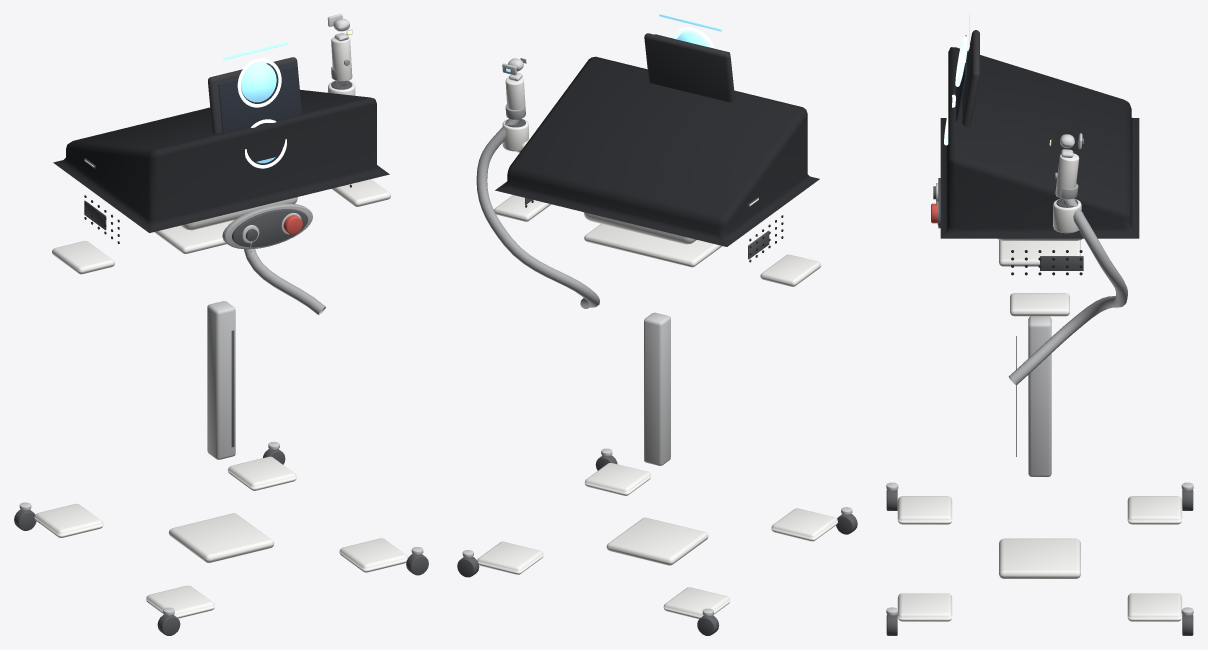
Rendered from aurum-laser-machine.glb.
3 views of the same model, side by side, from view 1: azimuth 30°, elevation 25°; view 2: azimuth 150°, elevation 25°; view 3: azimuth 270°, elevation 25° (orthographic). The views are drawn at different scales.
Parts seen in each view (by area): view 1: WedgeTop, Column, CartBaseCenter, ScreenPanel, CartWing_2, CartWing_3, CartWing_1, FrontOvalInner, TopPlateCenter, CartWing_0, TopWing_0, Hose (+6 smaller); view 2: WedgeTop, ScreenBezel, Column, CartBaseCenter, Hose, TopPlateCenter, CartWing_0, CartWing_1, CartWing_3, CartWing_2, TopWing_0, TopWing_1 (+3 smaller); view 3: WedgeTop, Column, CartBaseCenter, Hose, TopPlateCenter, CartWing_0, CartWing_2, CartWing_1, CartWing_3, TopWing_1, ScreenBezel, HpHandle (+2 smaller).
Part boxes in pixels (bbox=[...]): WedgeTop: bbox=[53, 89, 389, 232]; Column: bbox=[207, 301, 235, 459]; CartBaseCenter: bbox=[168, 513, 274, 562]; ScreenPanel: bbox=[218, 65, 300, 132]; CartWing_2: bbox=[34, 504, 103, 537]; CartWing_3: bbox=[227, 456, 296, 490]; CartWing_1: bbox=[339, 538, 407, 572]; FrontOvalInner: bbox=[232, 209, 308, 247]; TopPlateCenter: bbox=[154, 220, 233, 253]; CartWing_0: bbox=[146, 585, 214, 618]; TopWing_0: bbox=[52, 241, 114, 274]; Hose: bbox=[244, 81, 347, 315]; WedgeTop: bbox=[495, 56, 819, 246]; ScreenBezel: bbox=[644, 33, 734, 102]; Column: bbox=[644, 312, 670, 465]; CartBaseCenter: bbox=[606, 517, 708, 565]; Hose: bbox=[476, 118, 599, 308]; TopPlateCenter: bbox=[584, 224, 722, 267]; CartWing_0: bbox=[771, 508, 837, 541]; CartWing_1: bbox=[584, 463, 651, 495]; CartWing_3: bbox=[477, 541, 543, 574]; CartWing_2: bbox=[663, 587, 730, 618]; TopWing_0: bbox=[760, 254, 821, 286]; TopWing_1: bbox=[494, 195, 550, 221]; WedgeTop: bbox=[940, 47, 1139, 238]; Column: bbox=[1028, 316, 1051, 476]; CartBaseCenter: bbox=[999, 538, 1080, 578]; Hose: bbox=[1008, 198, 1127, 385]; TopPlateCenter: bbox=[999, 240, 1080, 266]; CartWing_0: bbox=[897, 496, 952, 524]; CartWing_2: bbox=[1127, 496, 1182, 524]; CartWing_1: bbox=[897, 593, 952, 621]; CartWing_3: bbox=[1127, 593, 1182, 621]; TopWing_1: bbox=[1010, 293, 1069, 316]; ScreenBezel: bbox=[962, 30, 979, 126]; HpHandle: bbox=[1055, 153, 1079, 199].
Bounding box in the file's own units: 0.6813 × 1.09 × 0.562.
